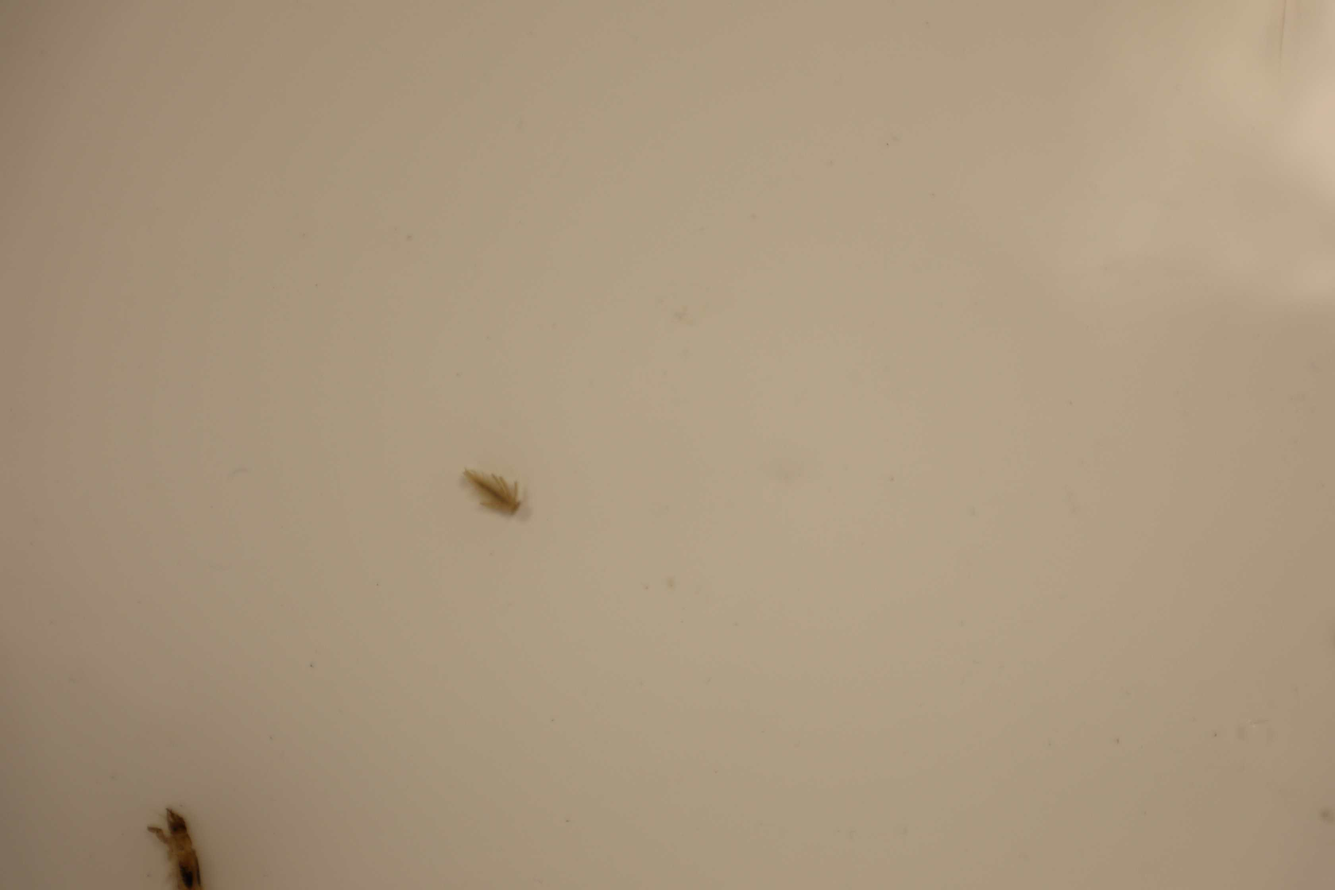Mayfly: (145, 803, 208, 890), (459, 465, 528, 527)
